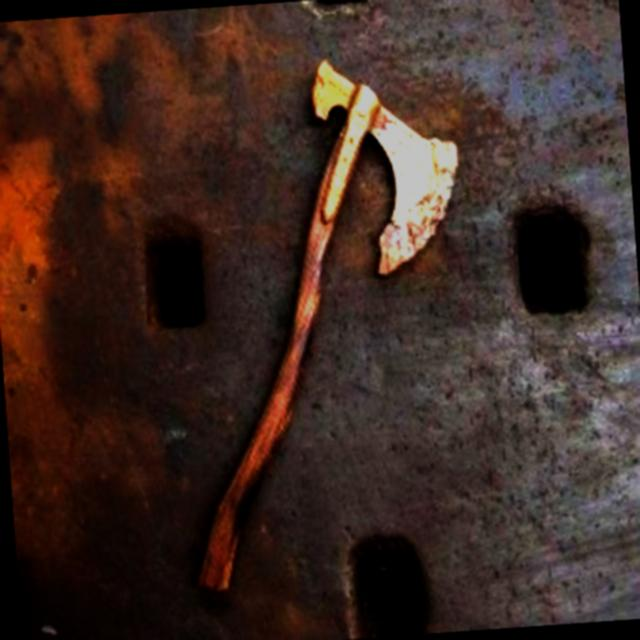ax: (152, 42, 492, 596)
